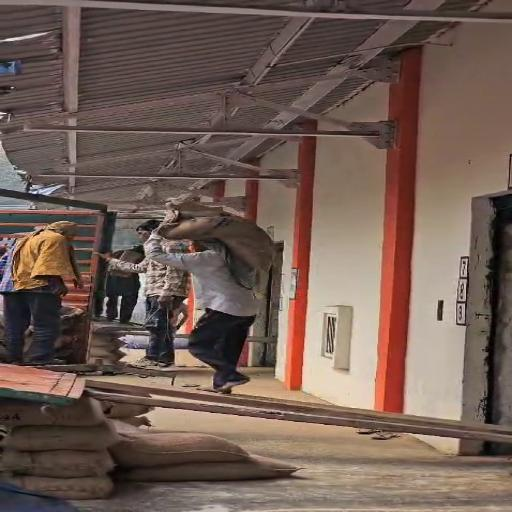bag: (160, 195, 282, 278)
